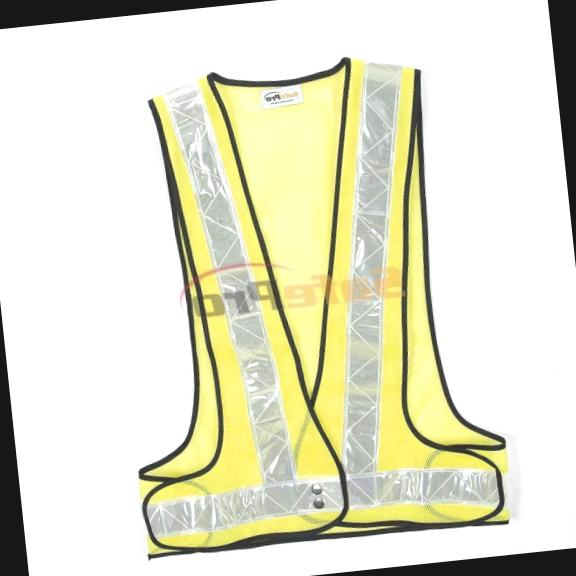safety_vest: (94, 36, 514, 566)
